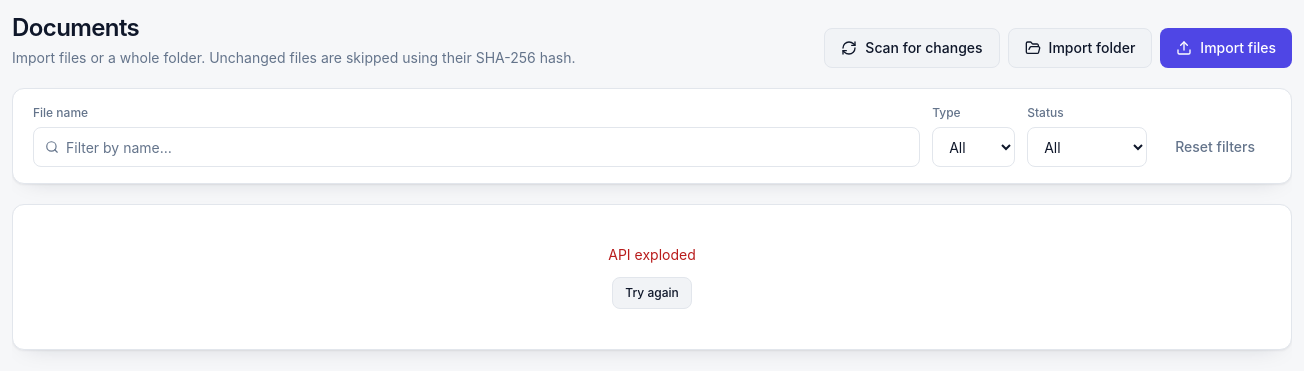
Documents page › shows an error state with a retry action
Expected: the message reads "API exploded", [608, 246, 696, 263]
Step 1. Click the button "Try again" → (652, 293), box [612, 277, 692, 309]
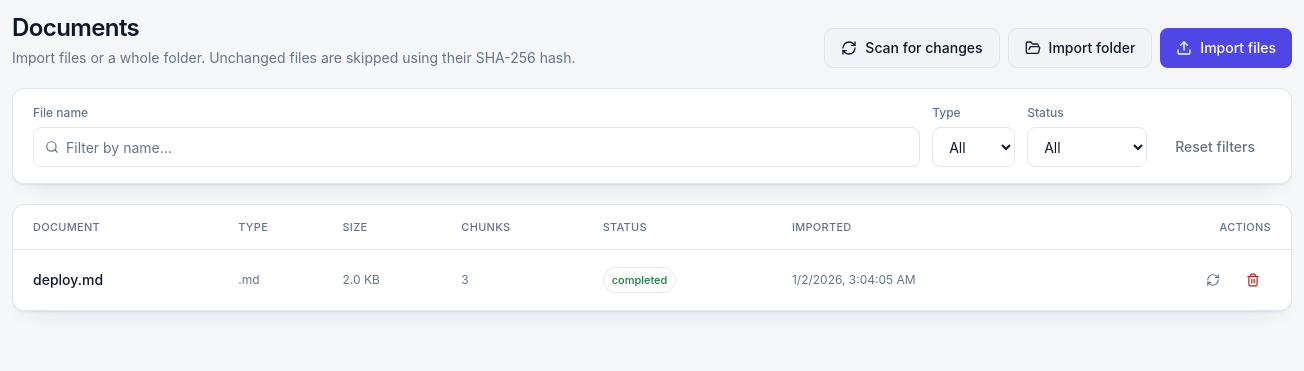
Now the button "deploy.md" is shown, box [33, 270, 103, 290]
